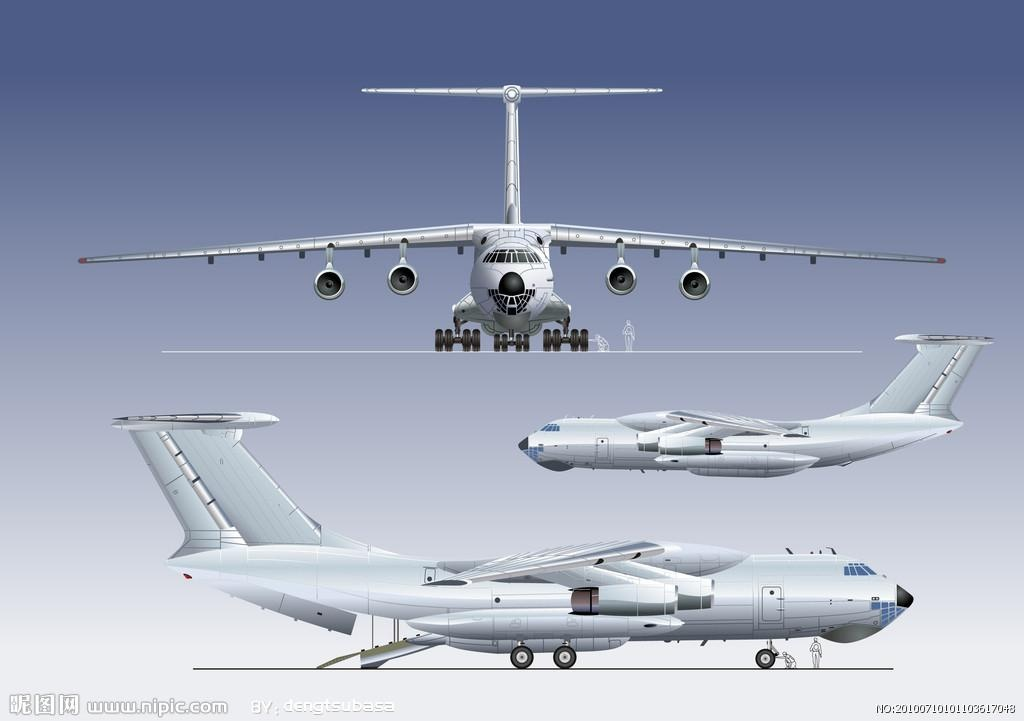airplane: (77, 76, 947, 349), (88, 406, 919, 673), (506, 329, 1002, 480)
